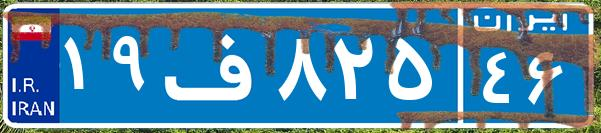1: (57, 26, 110, 107)
2: (330, 28, 385, 110)
4: (475, 38, 525, 113)
5: (385, 28, 445, 110)
6: (525, 38, 570, 115)
8: (273, 28, 330, 110)
9: (110, 28, 158, 105)
ف: (158, 15, 273, 115)
